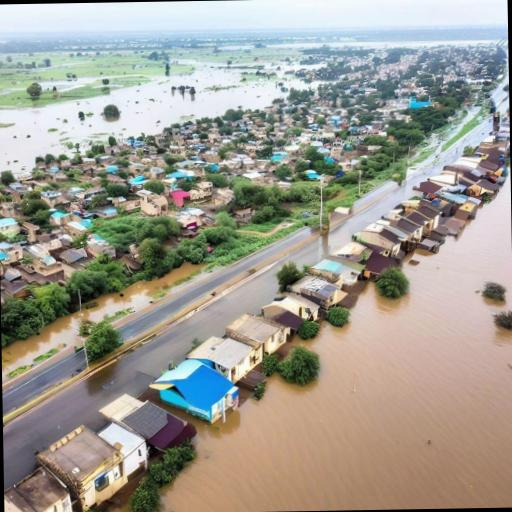flood: (162, 185, 512, 512), (0, 62, 308, 174), (267, 41, 494, 47), (40, 77, 99, 91), (219, 45, 254, 49), (503, 41, 508, 45)
house: (23, 419, 148, 512), (150, 353, 240, 427), (109, 396, 199, 462), (4, 461, 75, 512), (194, 334, 256, 390), (226, 311, 290, 356), (289, 274, 350, 310), (356, 220, 410, 258), (262, 294, 312, 334), (310, 256, 362, 288), (384, 211, 424, 244), (361, 248, 398, 279), (84, 234, 118, 260), (166, 186, 190, 208), (6, 242, 25, 262), (0, 253, 8, 278)
